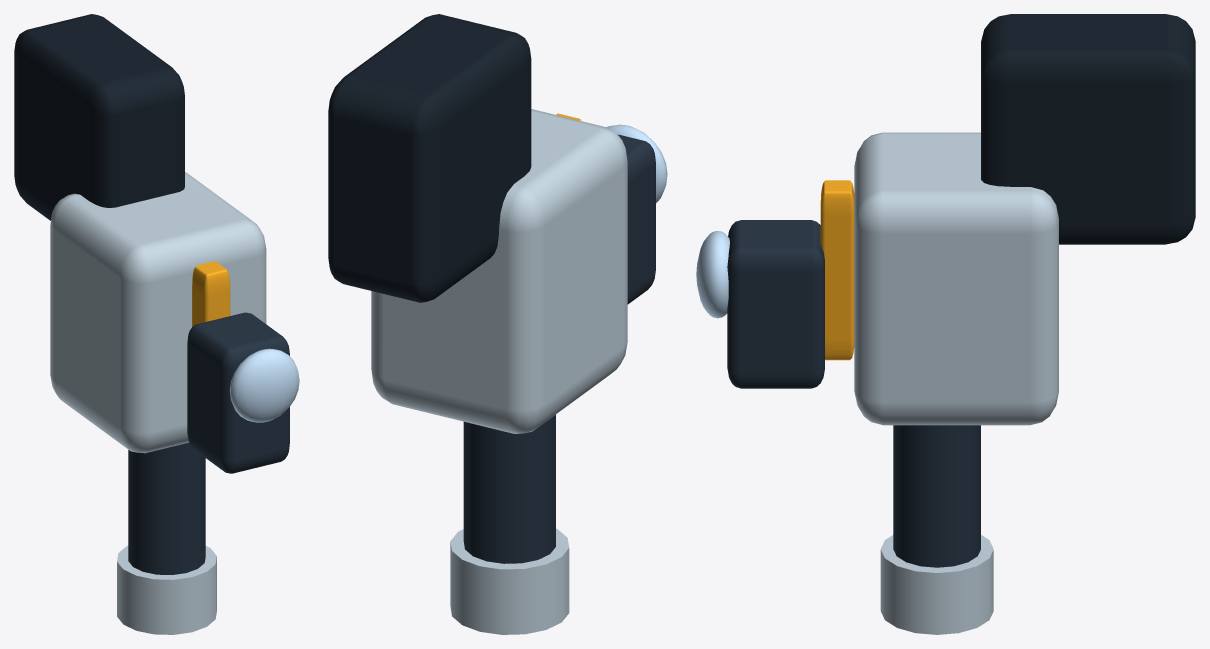
The model's file is pistol-1.glb.
The picture shows the model from 3 angles, left to right: view 1: azimuth 30°, elevation 25°; view 2: azimuth 150°, elevation 25°; view 3: azimuth 270°, elevation 25°; orthographic projection. The views are drawn at different scales.
Size of the model in its own units: 0.1928 by 0.6648 by 0.5197.
